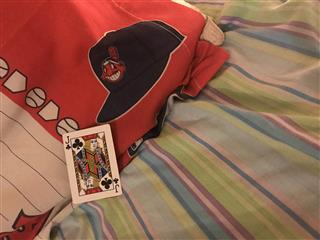JackOfClubs: (61, 123, 122, 204)
